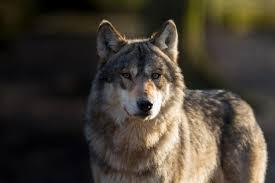Wolf: (80, 18, 269, 183)
